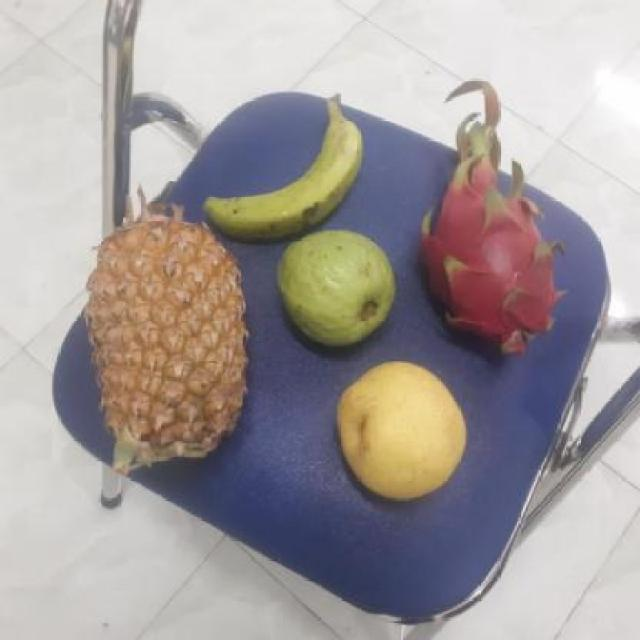banana: (198, 97, 360, 240)
dragon fruit: (413, 162, 559, 356)
guava: (275, 230, 393, 344)
pear: (328, 358, 470, 502)
pineapple: (78, 224, 248, 464)
